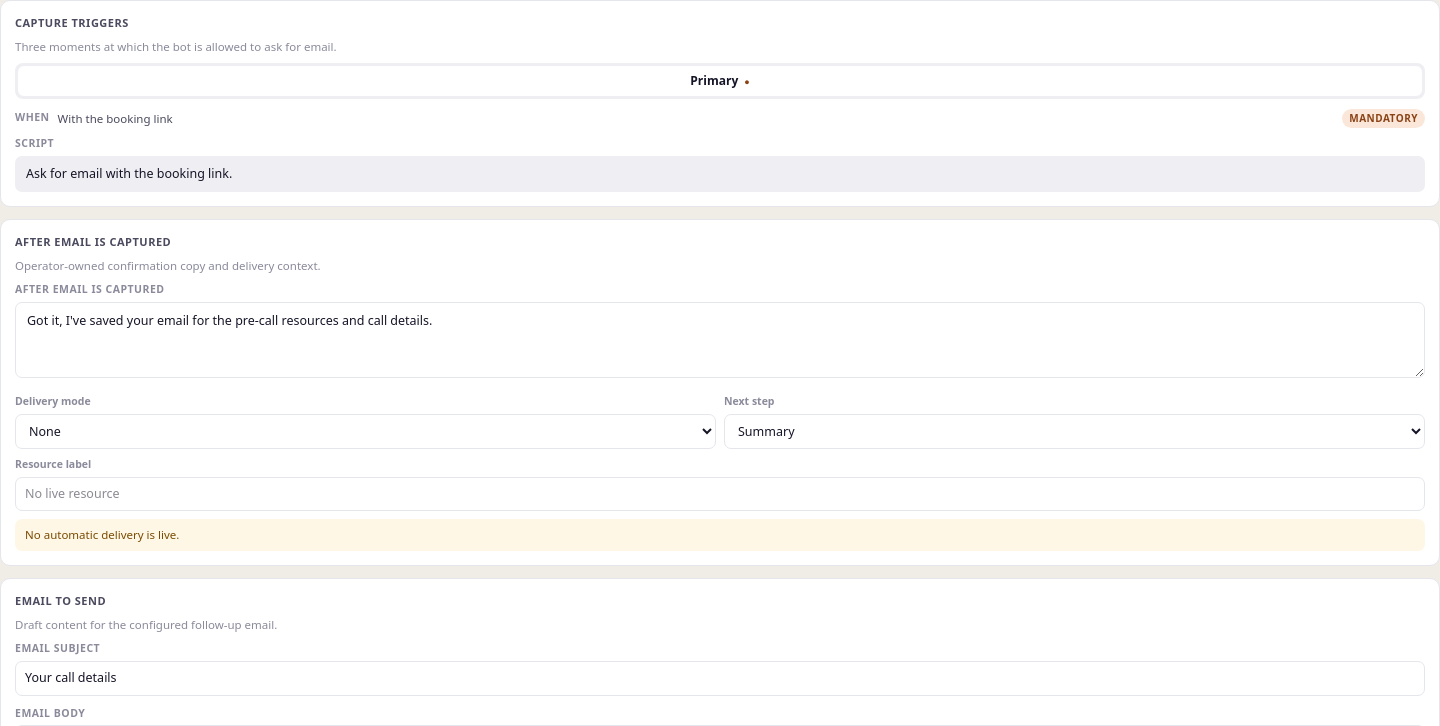
Test case: EmailPanel › surfaces no-delivery immediate-send validation errors
Replace the text in the text box labelled "After email is captured" with "Got it, I'll send that right now." at (720, 340), box [15,302,1425,378]
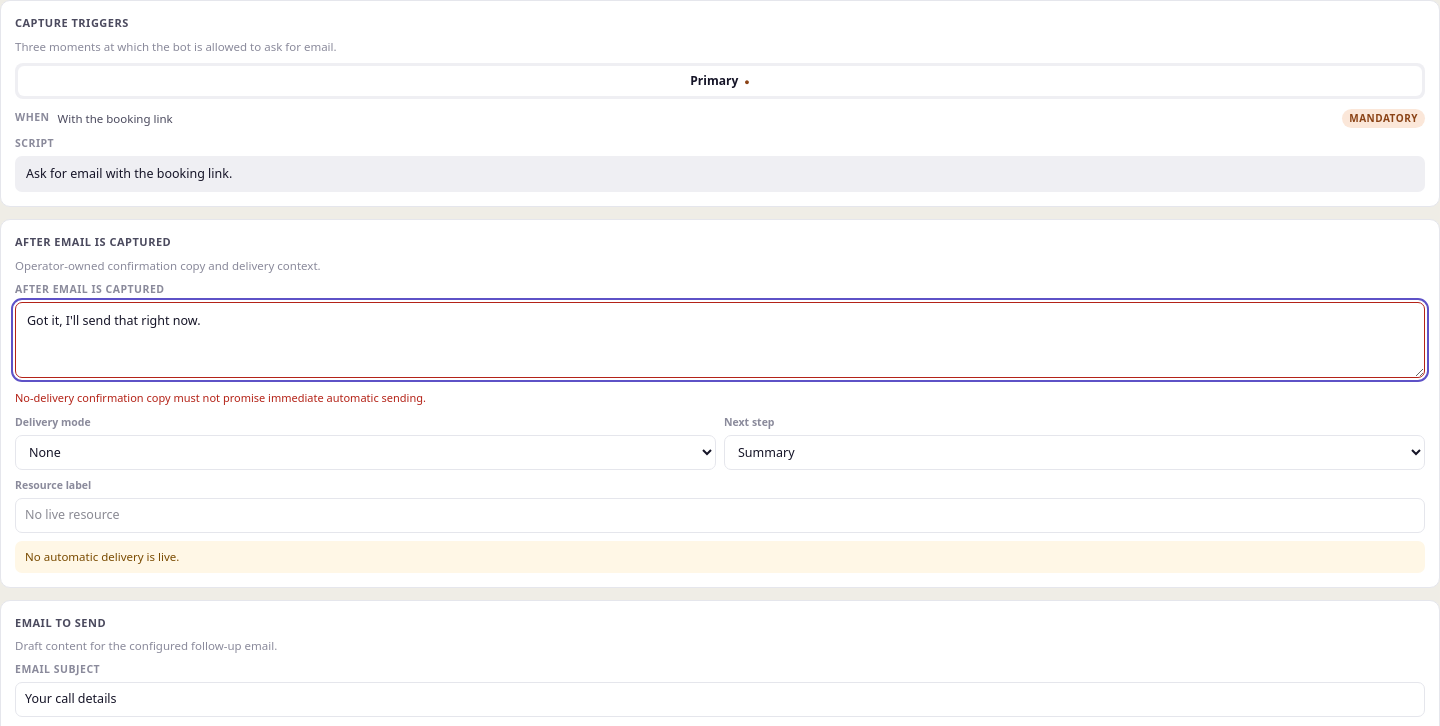
Now the text "No-delivery confirmation copy must not promise immediate automatic sending." is shown, box [15,390,426,405]
